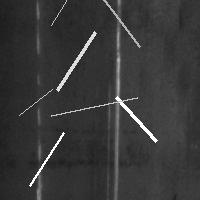scratches: (76, 0, 145, 52), (52, 27, 100, 95), (108, 1, 123, 200), (25, 127, 69, 190), (111, 92, 161, 146), (46, 92, 142, 120), (31, 48, 42, 199), (46, 0, 100, 30), (14, 84, 57, 120), (31, 1, 44, 59)
